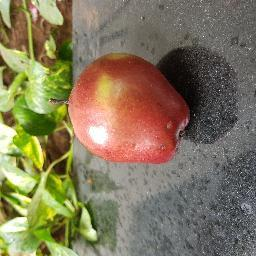Good_apple: (68, 50, 191, 166)
